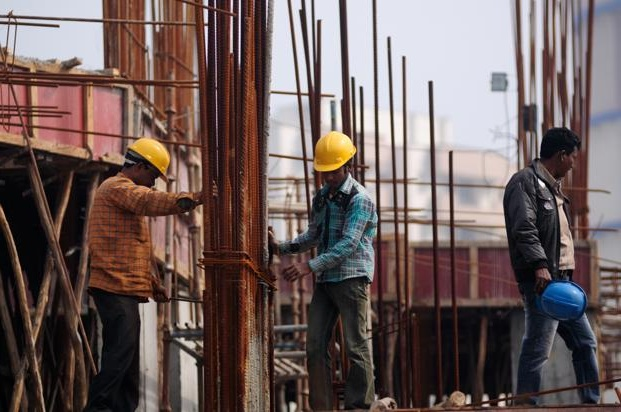NOTSAFE: (506, 130, 584, 283)
NoJacket: (88, 136, 171, 296), (305, 130, 376, 289)
